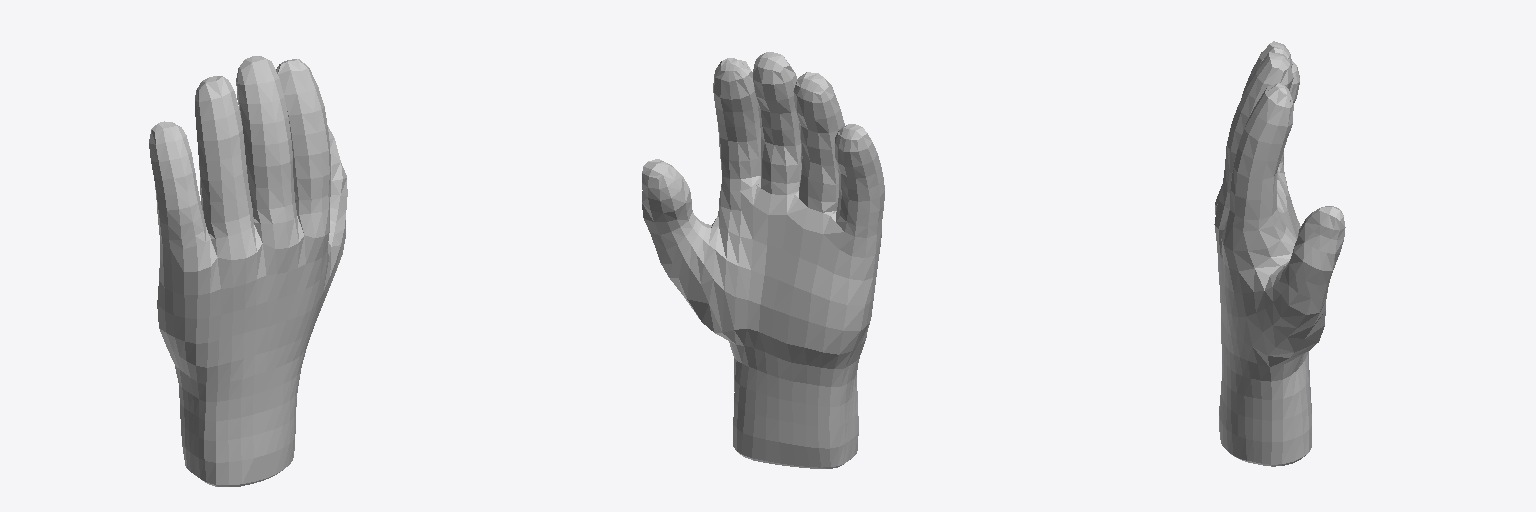
The model's file is Hand_low_Outline.obj.
The picture shows the model from 3 angles: view 1: azimuth 30°, elevation 25°; view 2: azimuth 150°, elevation 25°; view 3: azimuth 270°, elevation 25°; orthographic projection.
Visible parts, largest first — view 1: hand_low_outline; view 2: hand_low_outline; view 3: hand_low_outline.
Part boxes in pixels (x1,y1,x2,y2): hand_low_outline: (149,56,347,486); hand_low_outline: (642,52,884,468); hand_low_outline: (1214,41,1345,466).
Size of the model in its own units: 12.1 by 21.96 by 6.53.